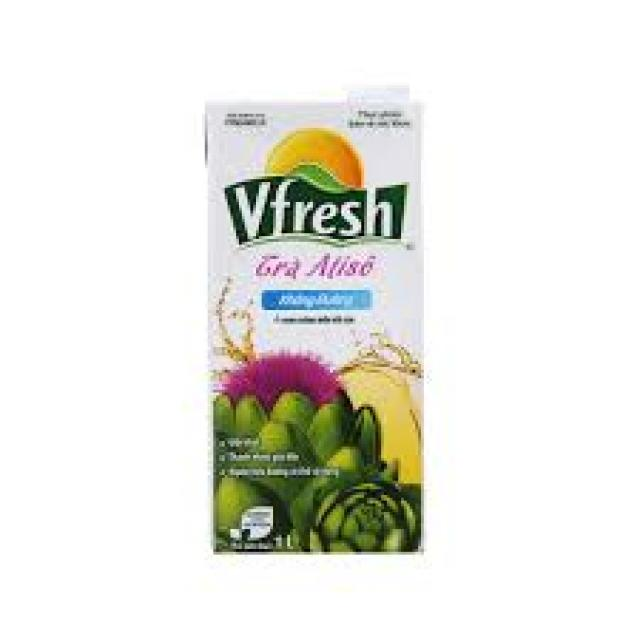non_white_jug: (185, 24, 427, 559)
